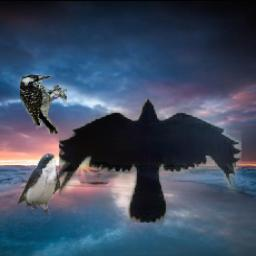Crow: (59, 99, 242, 224)
Swallow: (17, 154, 60, 215)
Woodpecker: (20, 75, 67, 135)
